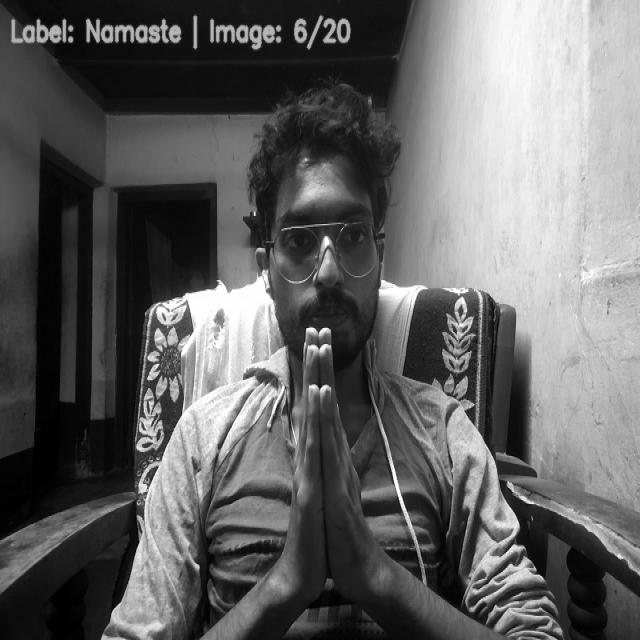Namaste: (270, 323, 378, 608)
